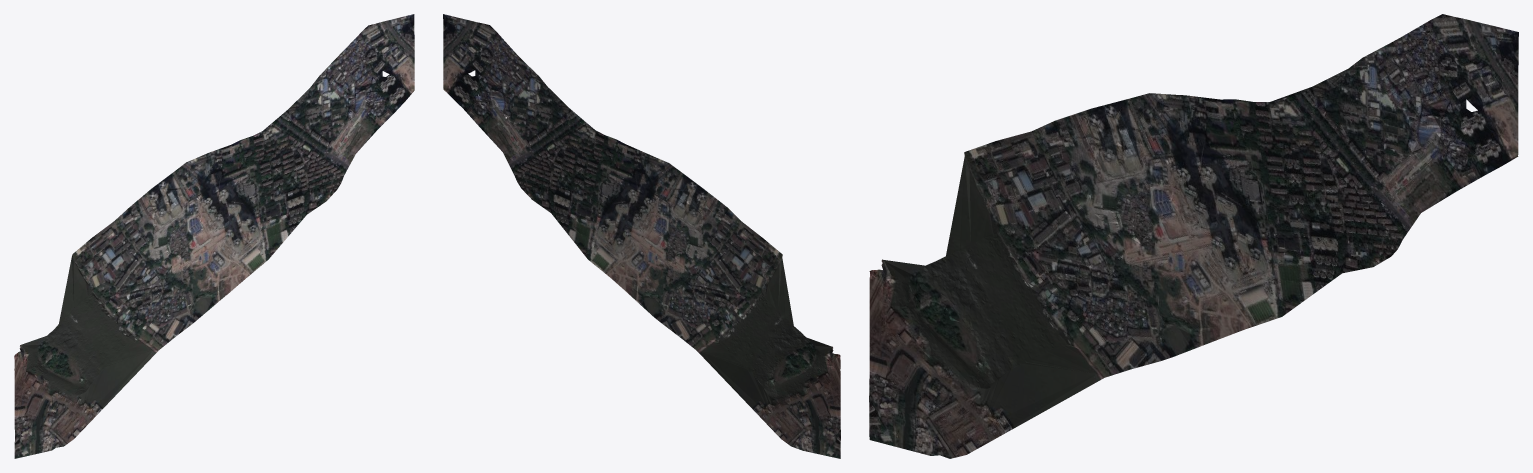
3 views of the same model, side by side, from view 1: azimuth 30°, elevation 25°; view 2: azimuth 150°, elevation 25°; view 3: azimuth 330°, elevation 25° (orthographic). The views are drawn at different scales.
Visible parts, largest first — view 1: 0_3_2_0; view 2: 0_3_2_0; view 3: 0_3_2_0.
Boxes of the visible parts, <box> form: 0_3_2_0: <box>14,14,414,458</box>; 0_3_2_0: <box>443,14,840,458</box>; 0_3_2_0: <box>869,14,1518,458</box>.
Bounding box in the file's own units: 1945 × 1625 × 33.93.
Materials: 1 (1 with a texture image).
